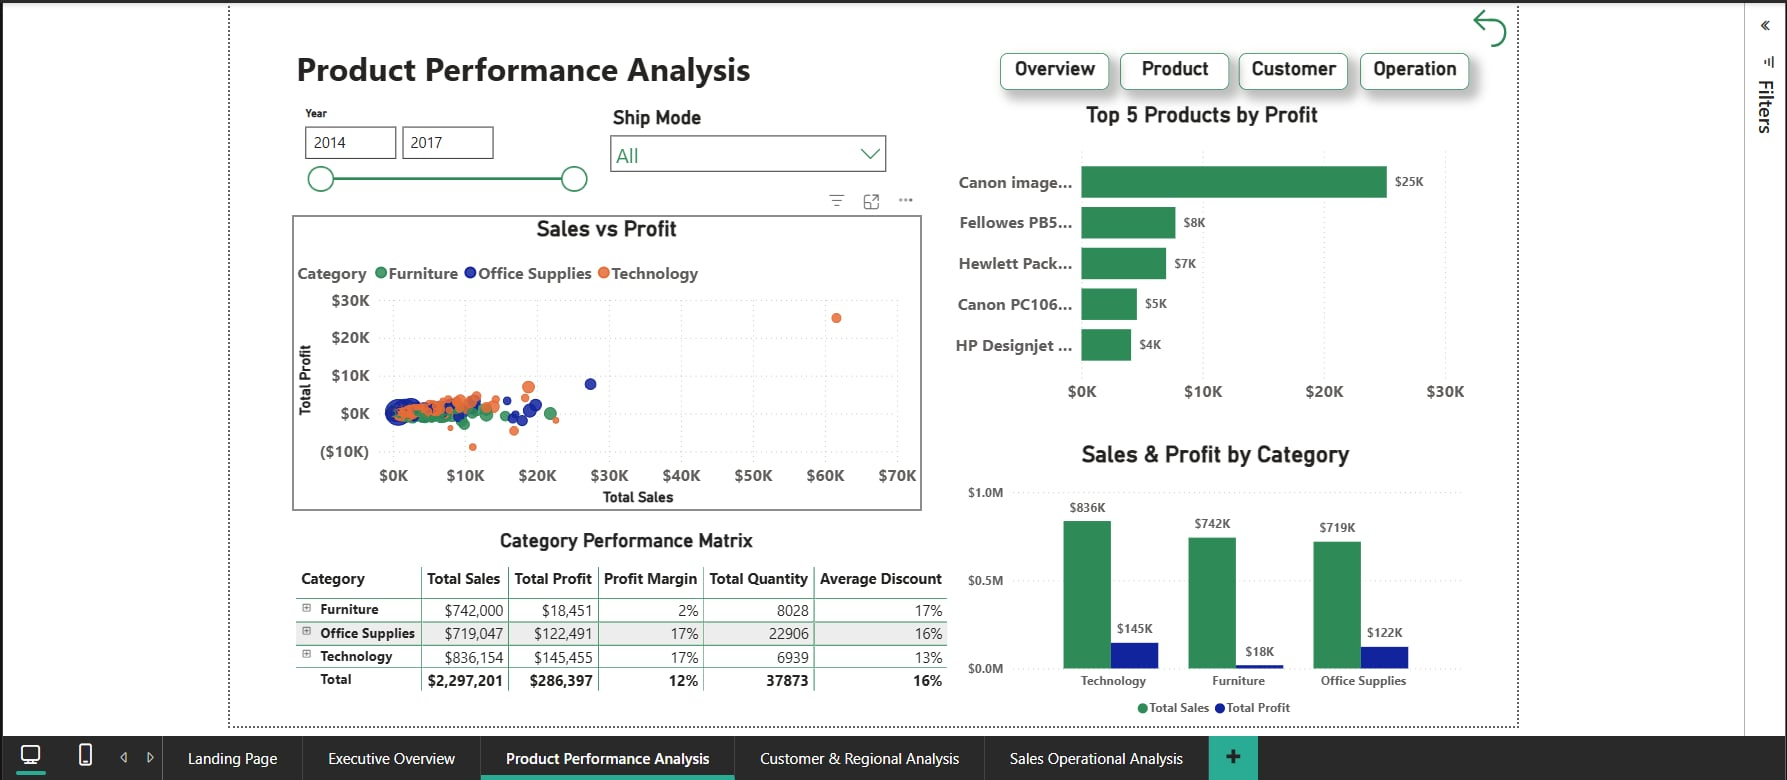

The page's visual inventory and layout, read from the dashboard file:
{"tool":"powerbi","page":{"name":"Product Performance Analysis","canvas":[1280,720],"ordinal":2},"visuals":[{"type":"textbox","box":[61.4,38.6,484.3,60],"z":0},{"type":"slicer","fields":{"Values":["Calendar.Year"]},"box":[61.7,98.3,301.7,100],"z":1000},{"type":"slicer","fields":{"Values":["Sample___Superstore.Ship Mode"]},"box":[368.3,98.3,295,100],"z":2000},{"type":"clusteredColumnChart","title":"Sales & Profit by Category","fields":{"Category":["Sample___Superstore.Category"],"Y":["Measure.Total Sales","Measure.Total Profit"]},"box":[729,435.4,503.8,284.9],"z":3000},{"type":"scatterChart","title":"Sales vs Profit","fields":{"X":["Measure.Total Sales"],"Y":["Measure.Total Profit"],"Size":["Measure.Total Quantity"],"Category":["Sample___Superstore.Product Name"],"Series":["Sample___Superstore.Category"]},"box":[62.2,211.5,625.7,293.6],"z":4000},{"type":"clusteredBarChart","title":"Top 5 Products by Profit","fields":{"Category":["Sample___Superstore.Product Name"],"Y":["Measure.Total Profit"]},"box":[701.7,98.3,531.7,310],"z":5000},{"type":"pivotTable","title":"Category Performance Matrix","fields":{"Rows":["Sample___Superstore.Category","Sample___Superstore.Sub-Category"],"Values":["Measure.Total Sales","Measure.Total Profit","Measure.Profit Margin","Measure.Total Quantity","Measure.Average Discount"]},"box":[61.4,524.3,667.1,195.7],"z":6000},{"type":"actionButton","title":"Operation","box":[1124.3,50,108.6,37.1],"z":7000},{"type":"actionButton","title":"Customer","box":[1004.3,50,108.6,37.1],"z":8000},{"type":"actionButton","title":"Product","box":[885.7,50,108.6,37.1],"z":9000},{"type":"actionButton","title":"Overview","box":[765.7,50,108.6,37.1],"z":10000},{"type":"actionButton","box":[1229,0,51,49.8],"z":11000}]}

Visuals, with their boxes on the page's 1280x720 design canvas (x1, y1, x2, y2). These are canvas units, not pixel positions in the 1787x780 screenshot, which may show the page scaled, cropped or inside an application window:
textbox: crop(61, 39, 546, 99)
slicer - Calendar.Year: crop(62, 98, 363, 198)
slicer - Sample___Superstore.Ship Mode: crop(368, 98, 663, 198)
"Sales & Profit by Category" clusteredColumnChart: crop(729, 435, 1233, 720)
"Sales vs Profit" scatterChart: crop(62, 212, 688, 505)
"Top 5 Products by Profit" clusteredBarChart: crop(702, 98, 1233, 408)
"Category Performance Matrix" pivotTable: crop(61, 524, 728, 720)
"Operation" actionButton: crop(1124, 50, 1233, 87)
"Customer" actionButton: crop(1004, 50, 1113, 87)
"Product" actionButton: crop(886, 50, 994, 87)
"Overview" actionButton: crop(766, 50, 874, 87)
actionButton: crop(1229, 0, 1280, 50)
